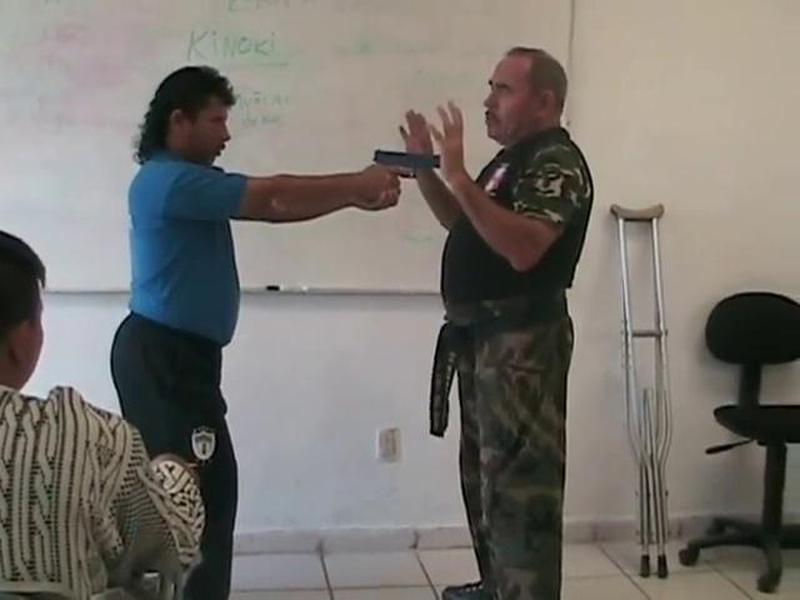Pistola: (346, 138, 443, 226)
